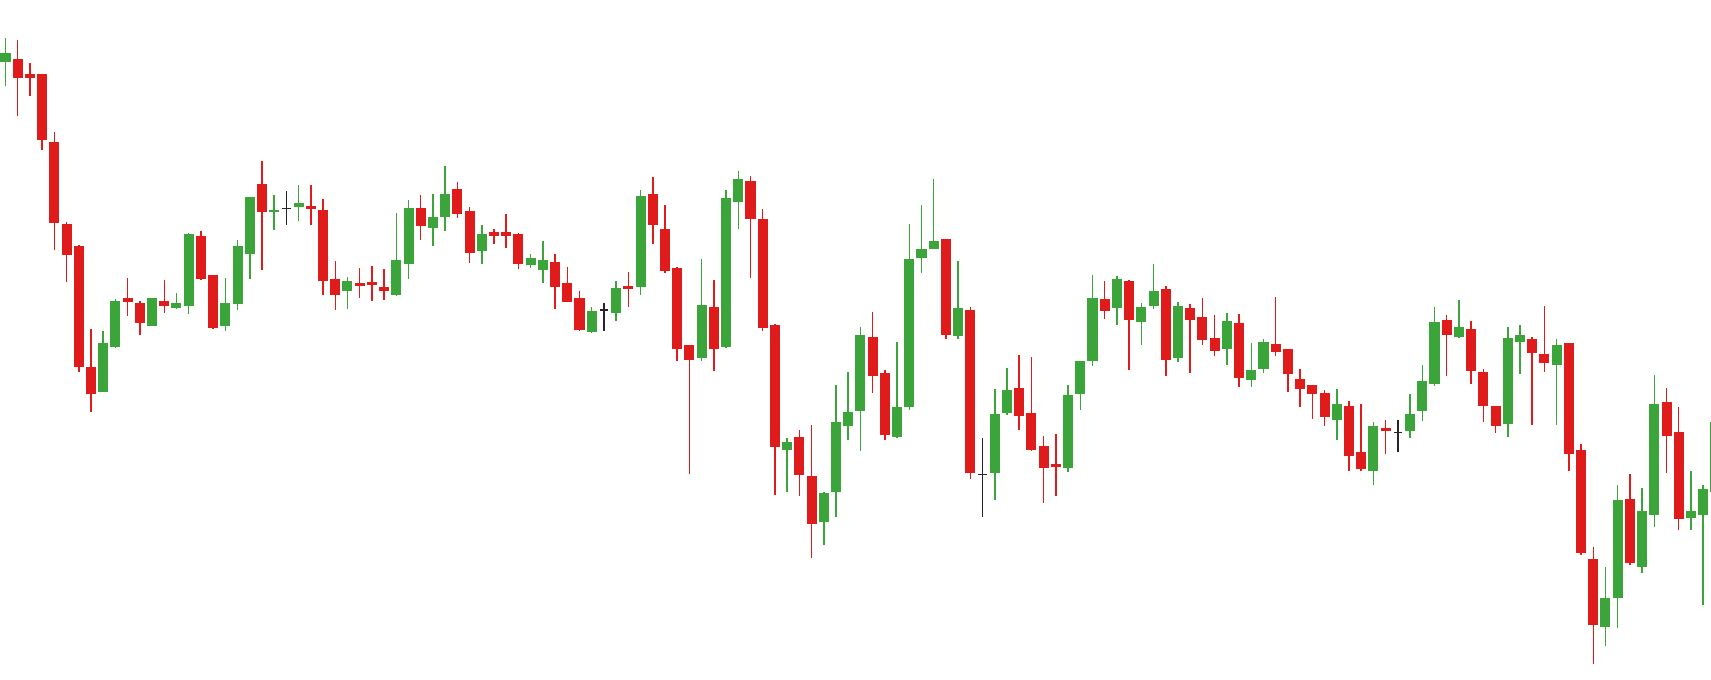buy: (682, 300, 845, 560), (881, 321, 1002, 523)
sell: (634, 167, 759, 290)
